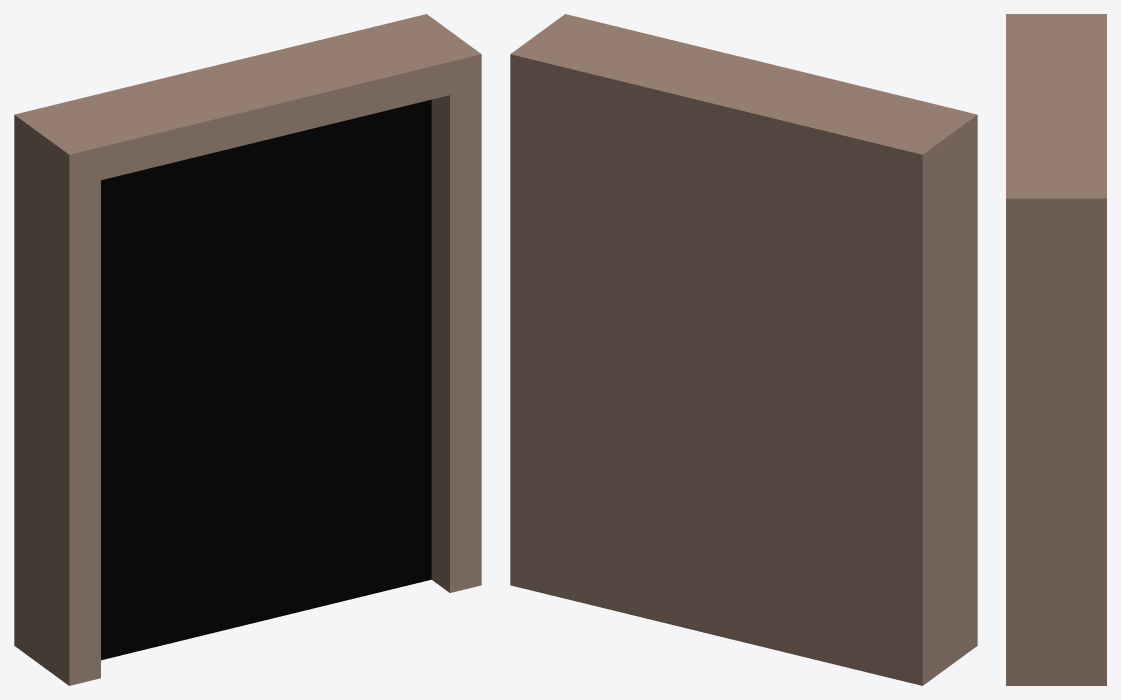
File: dungeon_a_b_entrance_a.obj
3 renders of one model, left to right at view 1: azimuth 30°, elevation 25°; view 2: azimuth 150°, elevation 25°; view 3: azimuth 270°, elevation 25°, orthographic. The views are drawn at different scales.
Size of the model in its own units: 1.3 by 1.6 by 0.3.
1 material, 1 textured.
